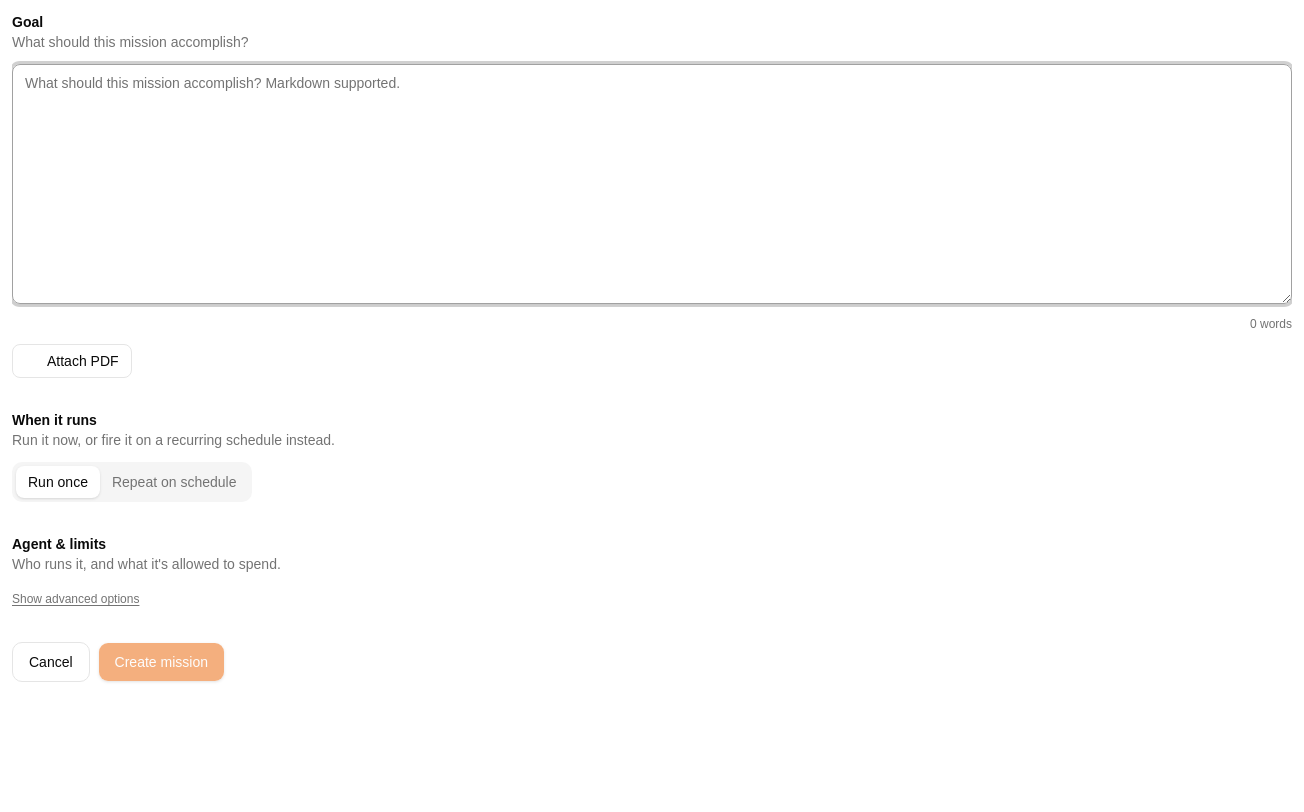
MissionForm — create mode, one-off mission › disables submit until a goal is entered
Expected: the button "Create mission" is disabled, [98,642,225,682]
Type "Fix a bug" into the text box named "Goal" at (652, 184), box [12,64,1292,304]
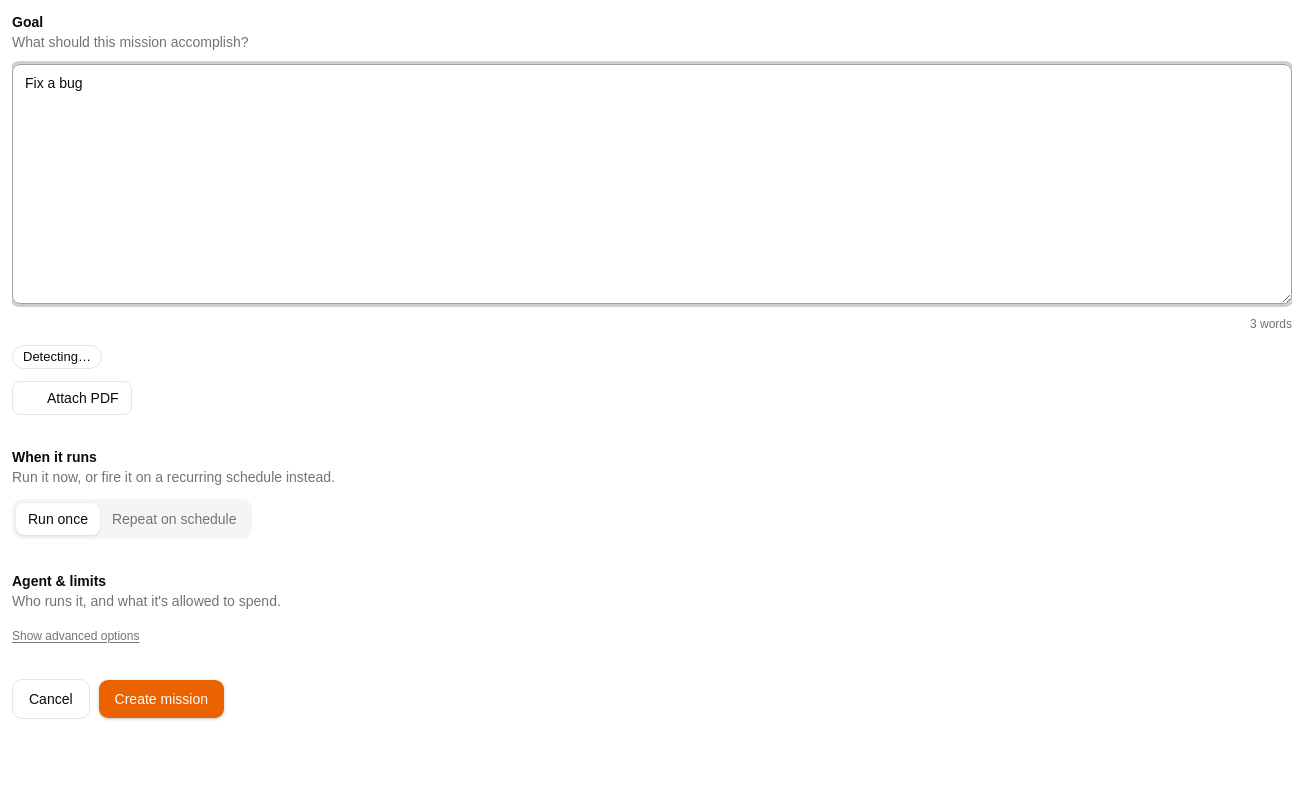
Expected: the button "Create mission" is enabled, [98,679,225,719]
